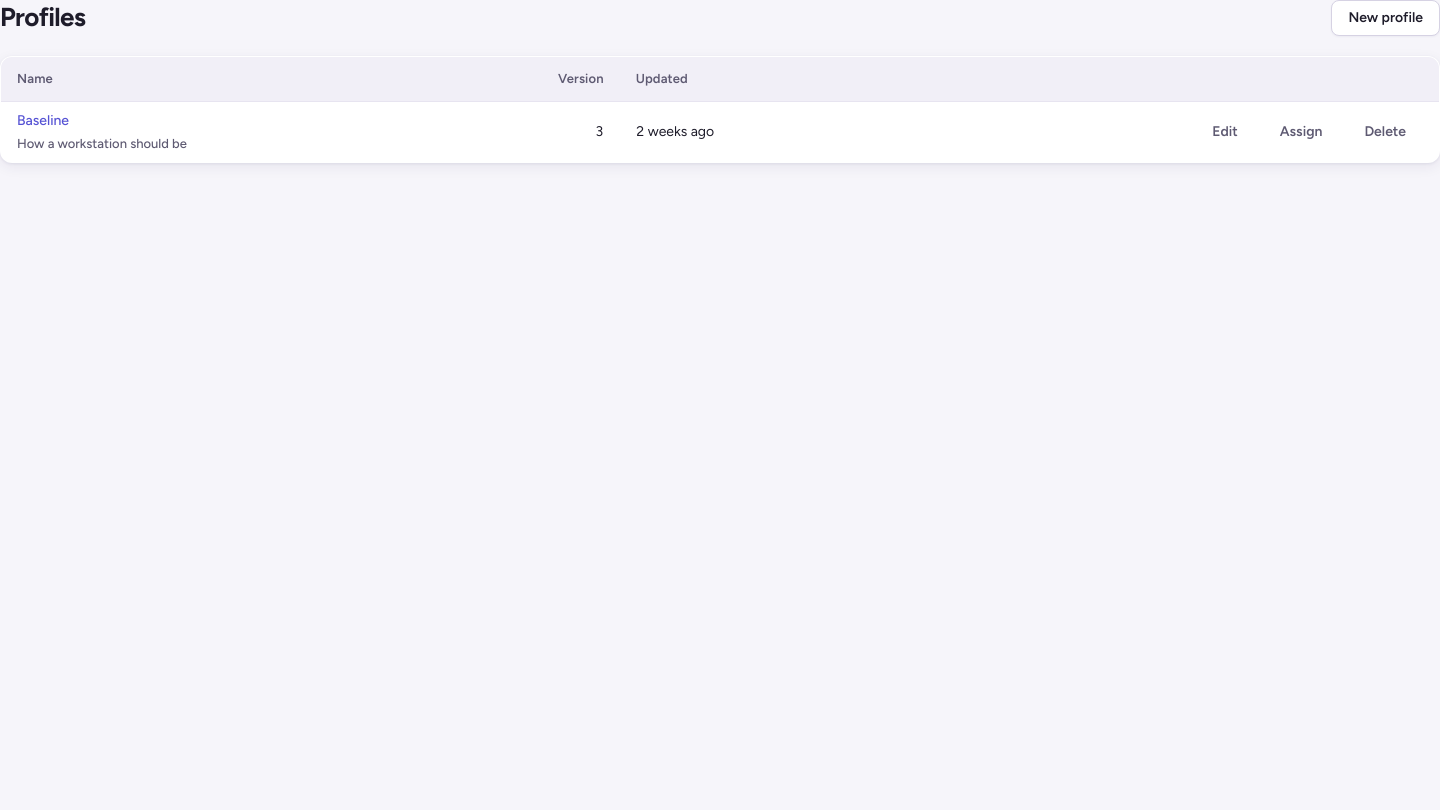
Test: Profiles › shows only the fields the chosen kind needs
Expected: the button "Baseline" is shown, [17,110,69,132]
Click the button "New profile": (1386, 18) [1332,0,1439,36]
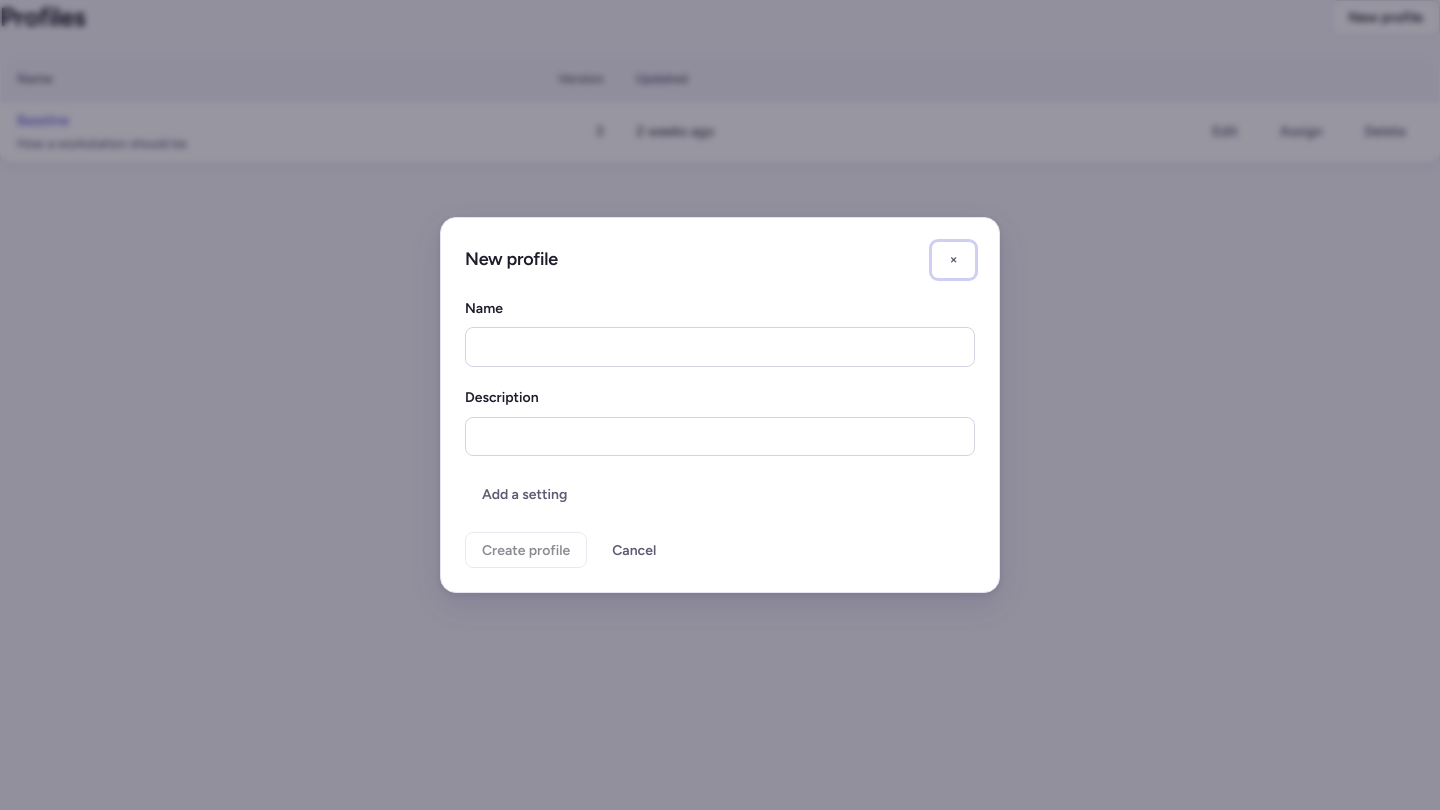
Click the button "Add a setting": (525, 494) [465,476,584,512]
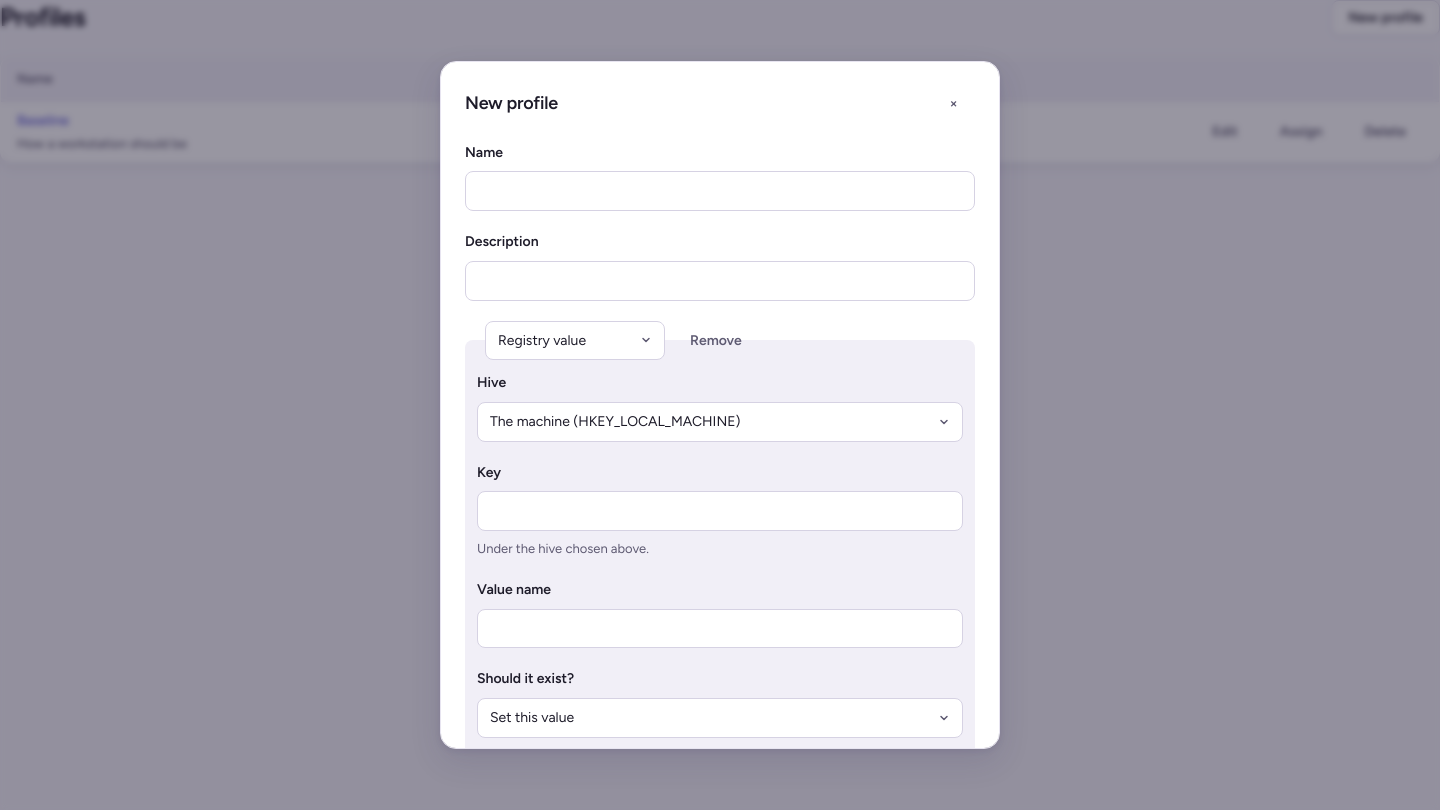
Expected: the field labelled "Value name" is shown, [477,609,963,648]
Select "Local group members" in the dropdown named "Setting 1 kind": (575, 340) [485,320,665,360]
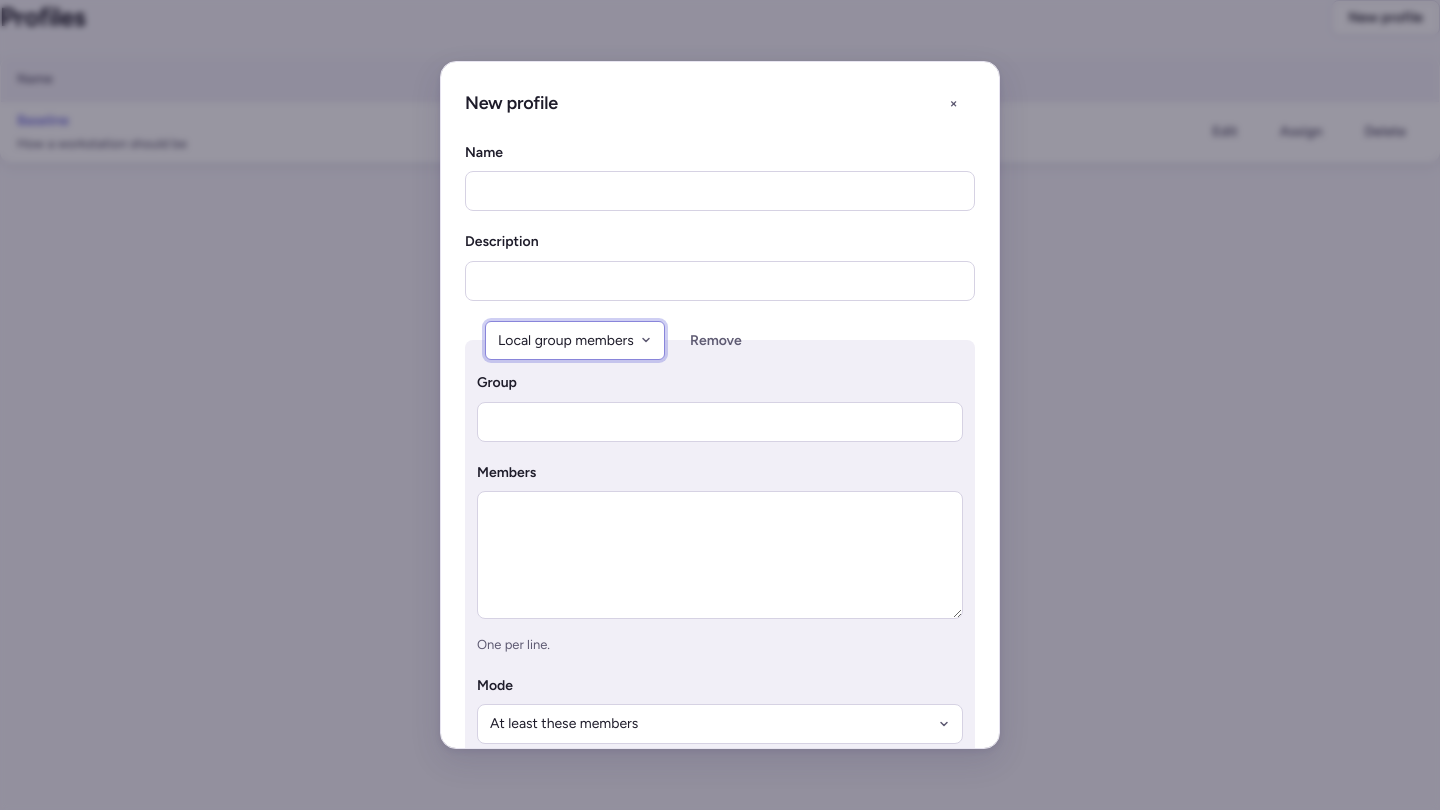
Expected: the text box labelled "Members" is shown, [477,491,963,619]
Expected: the label labelled "Value name" is gone
